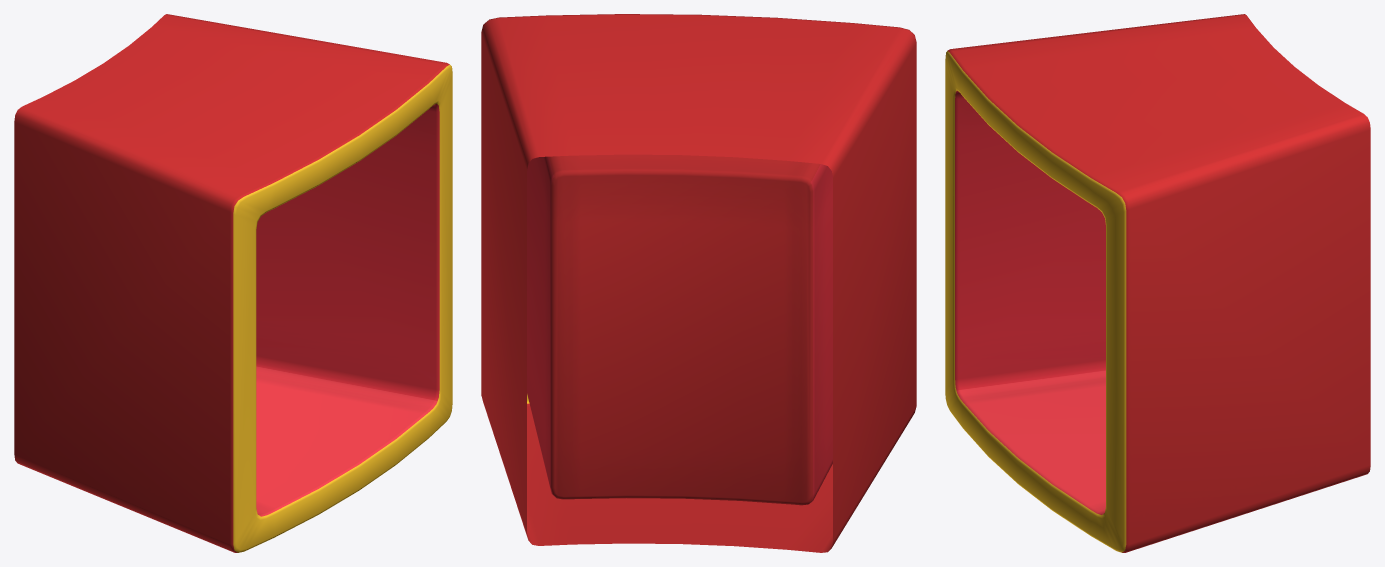
Rendered from guizi_07.FBX.
3 views of the same model, side by side, from view 1: azimuth 30°, elevation 25°; view 2: azimuth 150°, elevation 25°; view 3: azimuth 270°, elevation 25° (orthographic). The views are drawn at different scales.
Parts seen in each view (by area): view 1: guizi_07; view 2: guizi_07; view 3: guizi_07.
Boxes of the visible parts, bbox=[...] form: guizi_07: bbox=[14, 14, 452, 552]; guizi_07: bbox=[481, 14, 916, 552]; guizi_07: bbox=[945, 14, 1370, 552].
Bounding box in the file's own units: 189 × 169 × 181.
Materials: 1 (1 with a texture image).
